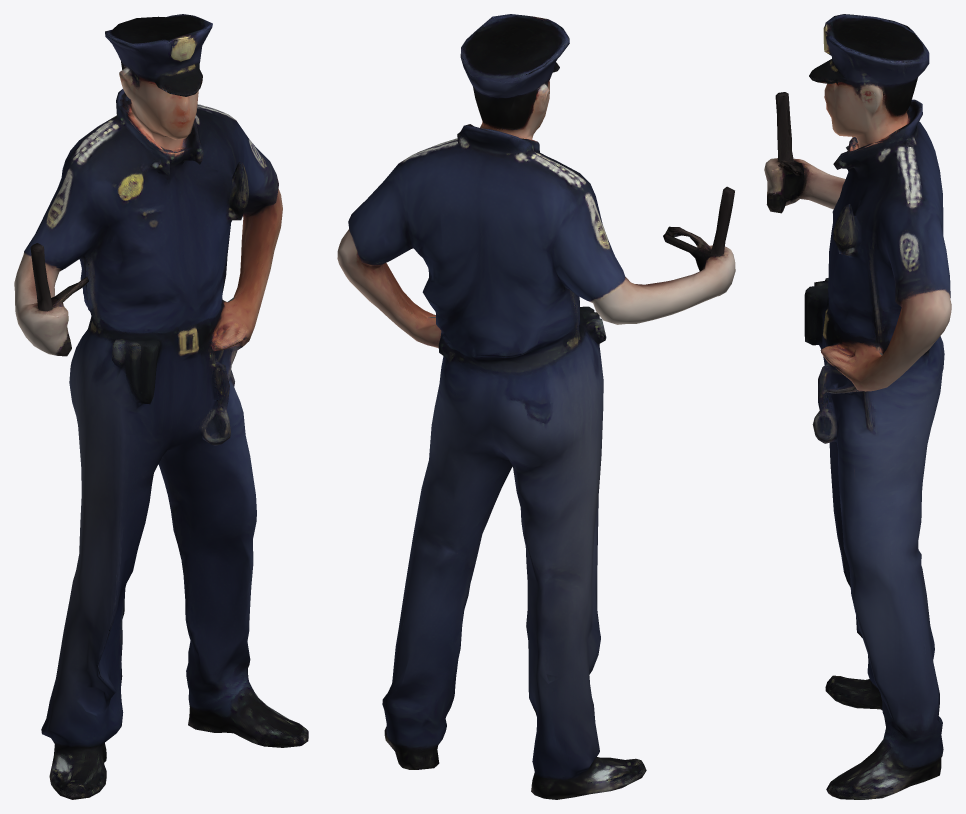
The model's file is Politie.glb.
3 views of the same model, side by side, from view 1: azimuth 30°, elevation 25°; view 2: azimuth 150°, elevation 25°; view 3: azimuth 270°, elevation 25° (orthographic). The views are drawn at different scales.
Parts seen in each view (by area): view 1: geometry_0; view 2: geometry_0; view 3: geometry_0.
Boxes of the visible parts, box(x1,y1,x2,y2) form: geometry_0: box(14, 14, 308, 799); geometry_0: box(337, 14, 735, 799); geometry_0: box(764, 14, 951, 799).
Size of the model in its own units: 0.4597 by 0.9993 by 0.2391.
Materials: 1 (1 with a texture image).
